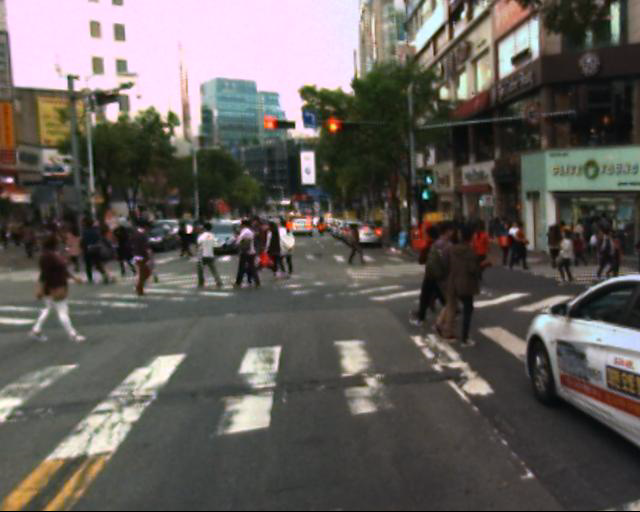person: (40, 204, 100, 350), (429, 216, 488, 364), (435, 217, 532, 277), (416, 222, 461, 343), (540, 220, 631, 274), (122, 205, 161, 308), (191, 219, 227, 300), (228, 214, 261, 300), (464, 220, 499, 300), (114, 217, 145, 286), (88, 221, 115, 291), (551, 225, 581, 282), (61, 222, 86, 278)
